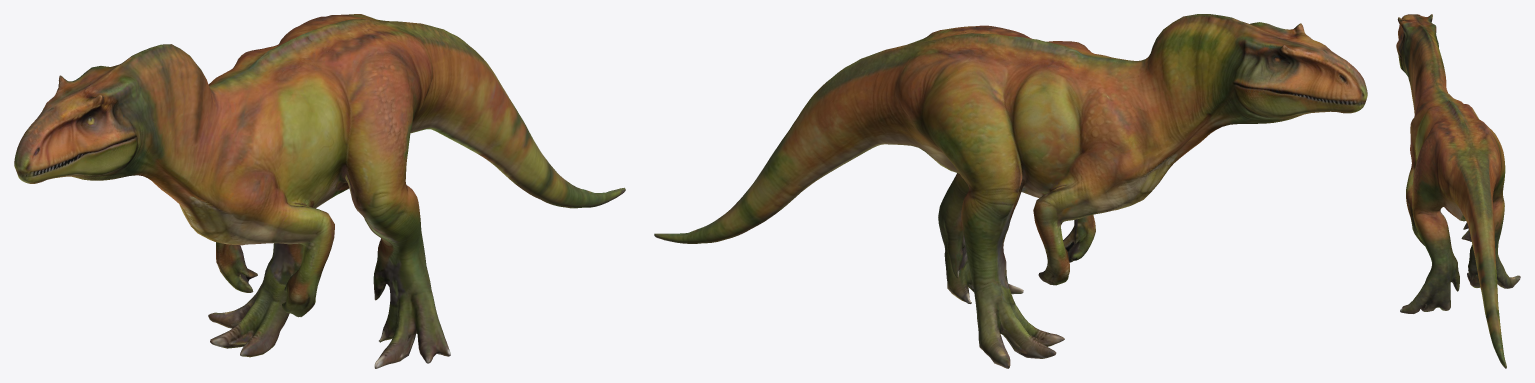
3 views of the same model, side by side, from view 1: azimuth 30°, elevation 25°; view 2: azimuth 150°, elevation 25°; view 3: azimuth 270°, elevation 25° (orthographic). The views are drawn at different scales.
Parts seen in each view (by area): view 1: Mesh0.001; view 2: Mesh0.001; view 3: Mesh0.001.
Part boxes in pixels (left/top/right/bottom): Mesh0.001: left=14, top=14, right=625, bottom=368; Mesh0.001: left=654, top=14, right=1367, bottom=368; Mesh0.001: left=1396, top=14, right=1520, bottom=368.
Size of the model in its own units: 0.0919 by 0.0469 by 0.025.
1 material, 1 textured.
